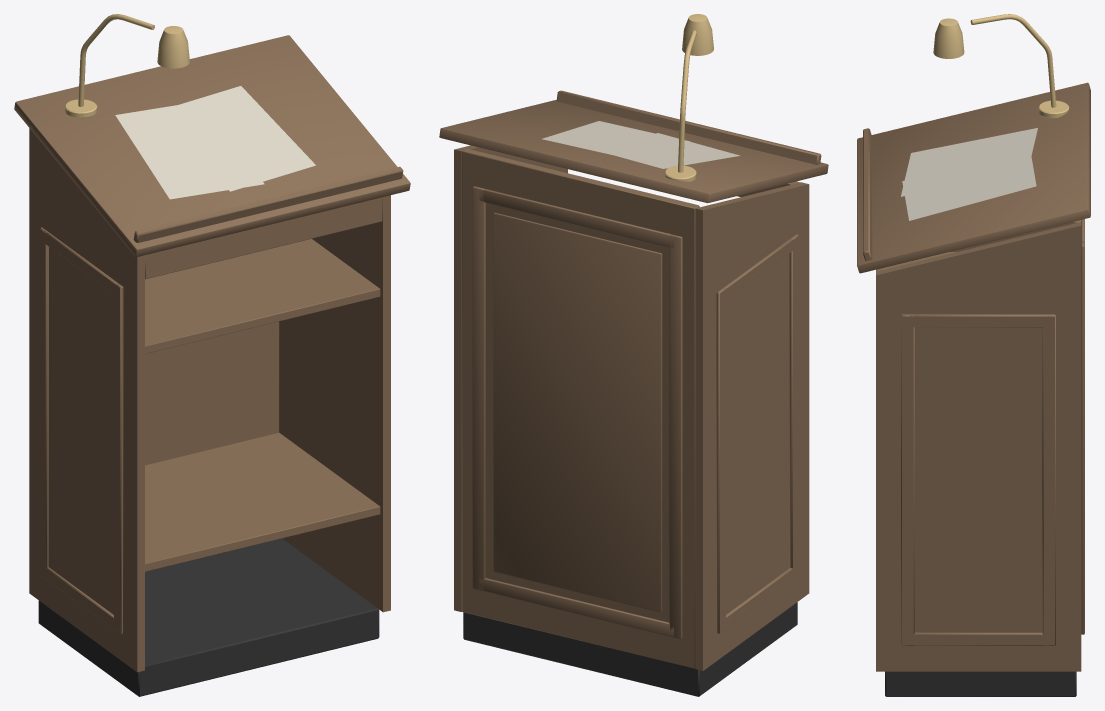
Rendered from Kit_Lectern_Lit.fbx.
3 renders of one model, left to right at view 1: azimuth 30°, elevation 25°; view 2: azimuth 150°, elevation 25°; view 3: azimuth 270°, elevation 25°, orthographic. The views are drawn at different scales.
Parts seen in each view (by area): view 1: Kit_Lectern_Lit_LOD0; view 2: Kit_Lectern_Lit_LOD0; view 3: Kit_Lectern_Lit_LOD0.
Part boxes in pixels (x1=…): Kit_Lectern_Lit_LOD0: x1=14, y1=14, x2=410, y2=696; Kit_Lectern_Lit_LOD0: x1=439, y1=14, x2=828, y2=696; Kit_Lectern_Lit_LOD0: x1=857, y1=14, x2=1090, y2=696.
Size of what is drawn, in the model's own units: 0.66 by 1.44 by 0.5121.
